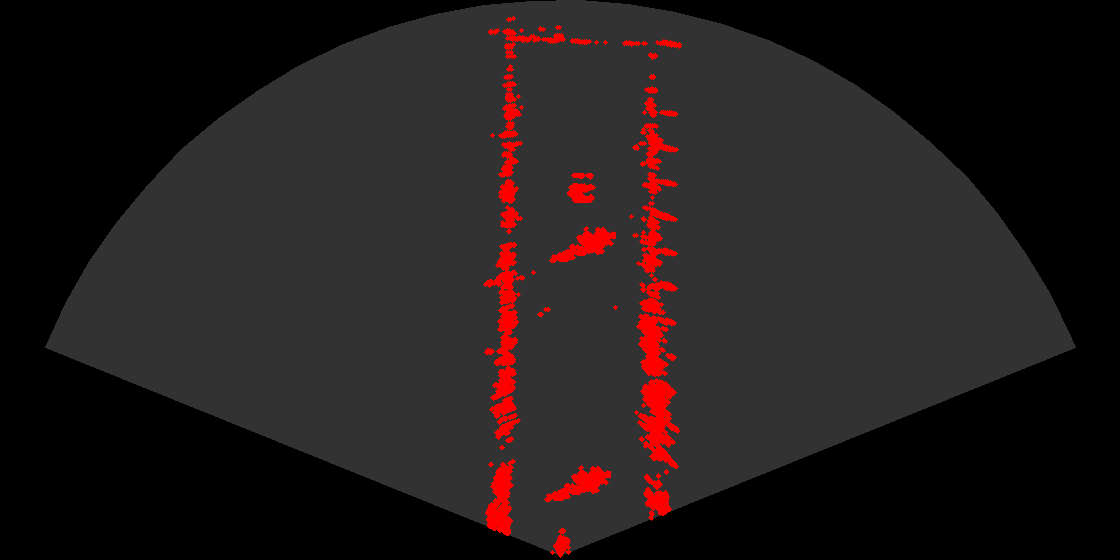ball: (547, 165, 607, 206)
frogman: (548, 220, 616, 267), (543, 459, 611, 506)
